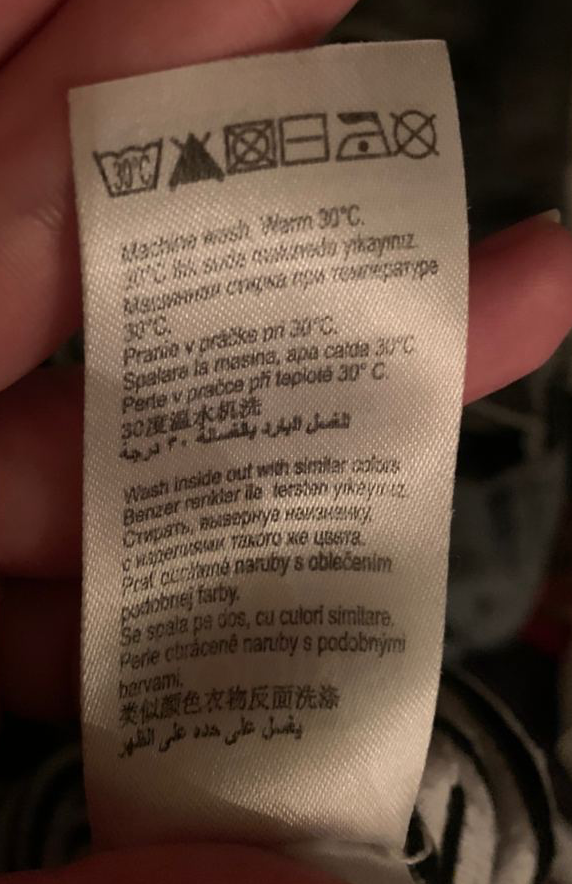do_not_bleach: (162, 126, 224, 194)
do_not_dry_clean: (391, 105, 442, 161)
do_not_tumble_drying: (224, 111, 278, 177)
dry_flat: (278, 107, 332, 170)
ironing_at_low_temp: (332, 104, 392, 166)
wash_at_or_below_30: (93, 133, 166, 202)
